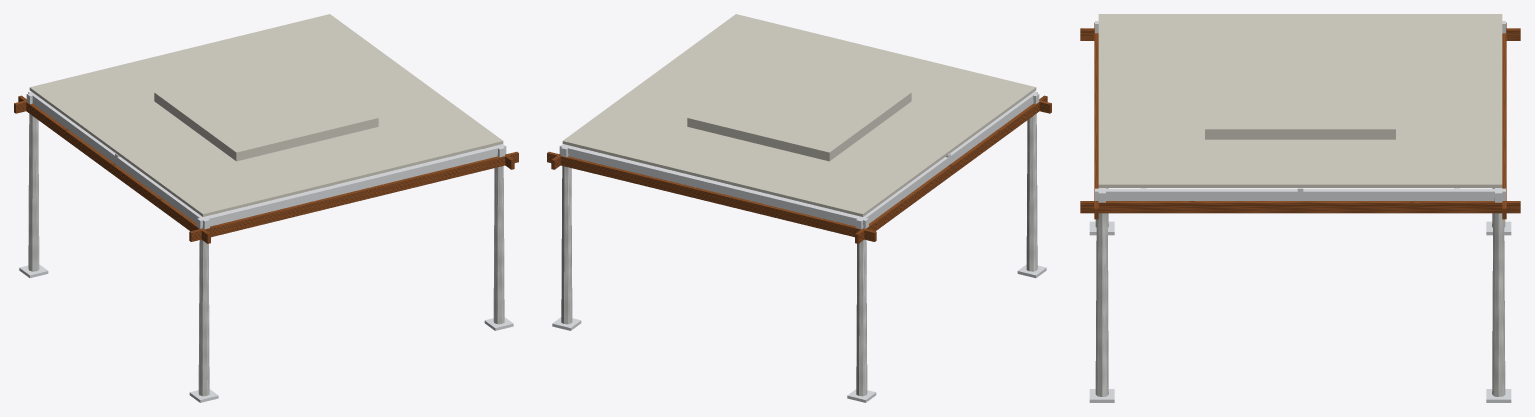
Rendered from cruise-ship-deck-and-lounge-cruise-ship-deck-and-loung-7a093ead__38459.glb.
3 renders of one model, left to right at view 1: azimuth 30°, elevation 25°; view 2: azimuth 150°, elevation 25°; view 3: azimuth 270°, elevation 25°, orthographic. The views are drawn at different scales.
Visible parts, largest first — view 1: cruise-ship-deck-and-lounge-canopy-run; view 2: cruise-ship-deck-and-lounge-canopy-run; view 3: cruise-ship-deck-and-lounge-canopy-run.
Boxes of the visible parts, x1,y1,x2,y2 form: cruise-ship-deck-and-lounge-canopy-run: (14, 14, 518, 402); cruise-ship-deck-and-lounge-canopy-run: (547, 14, 1051, 402); cruise-ship-deck-and-lounge-canopy-run: (1080, 14, 1520, 402).
Size of the model in its own units: 6 by 3.38 by 6.
4 materials, 2 textured.
